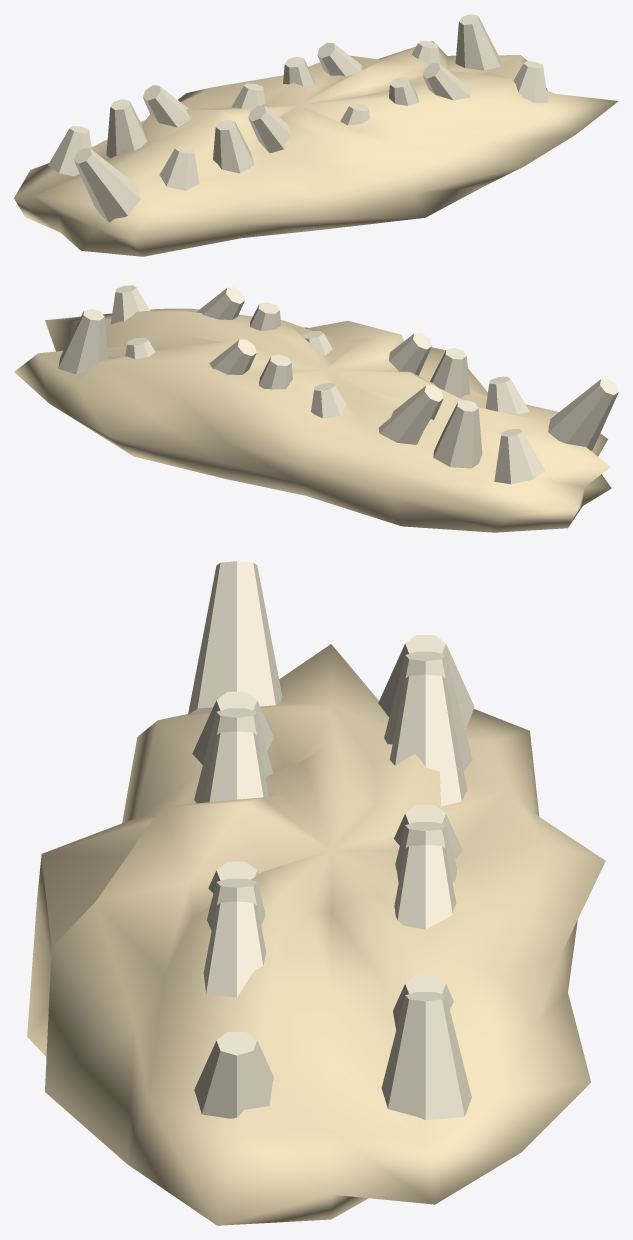
File: coral_rubble_bank_tropical_island_and_palm_trees_6846.glb
3 views of the same model, one above another, from view 1: azimuth 30°, elevation 25°; view 2: azimuth 150°, elevation 25°; view 3: azimuth 270°, elevation 25° (orthographic). The views are drawn at different scales.
Parts seen in each view (by area): view 1: coral-rubble-bank; view 2: coral-rubble-bank; view 3: coral-rubble-bank.
Boxes of the visible parts, box(x1,y1,x2,y2) form: coral-rubble-bank: box(14, 14, 618, 256); coral-rubble-bank: box(14, 285, 618, 532); coral-rubble-bank: box(27, 561, 605, 1225).
Bounding box in the file's own units: 3.06 × 0.5254 × 1.38.
